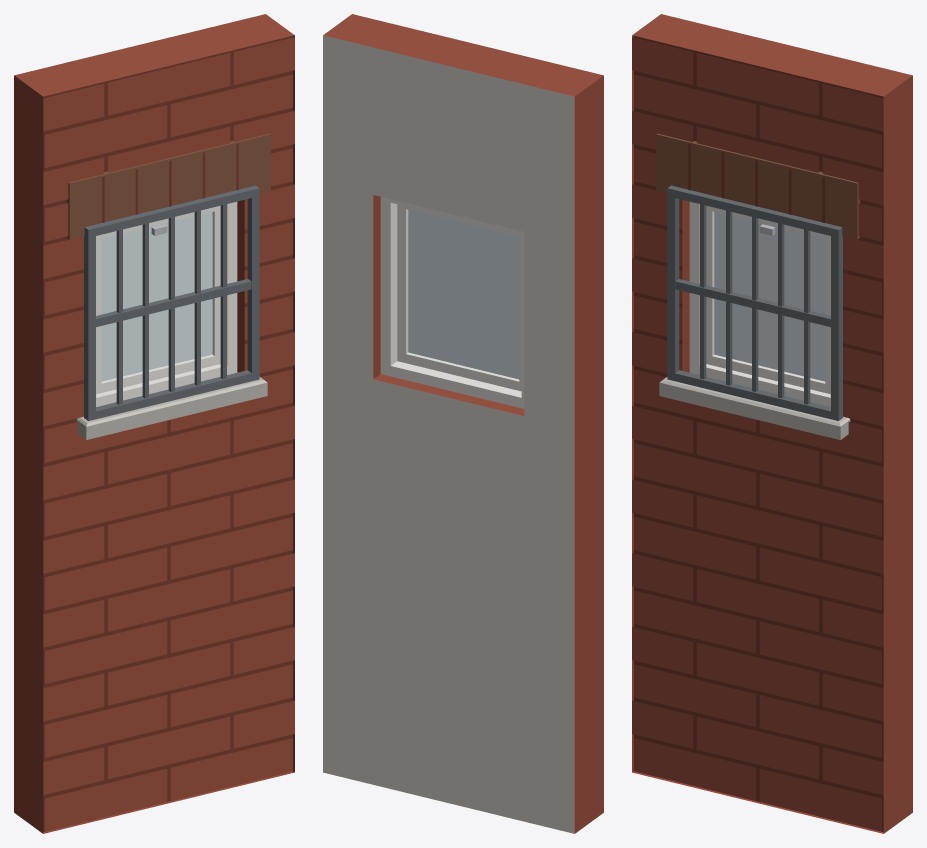
File: SC_Bld_Villa_Wall_Brick_Window_Small_1m.gltf
3 renders of one model, left to right at view 1: azimuth 30°, elevation 25°; view 2: azimuth 150°, elevation 25°; view 3: azimuth 330°, elevation 25°, orthographic.
Parts seen in each view (by area): view 1: SC_Bld_Villa_Wall_Brick_Window_Small_1m; view 2: SC_Bld_Villa_Wall_Brick_Window_Small_1m; view 3: SC_Bld_Villa_Wall_Brick_Window_Small_1m.
Part boxes in pixels (x1,y1,x2,y2): SC_Bld_Villa_Wall_Brick_Window_Small_1m: (14, 14, 294, 833); SC_Bld_Villa_Wall_Brick_Window_Small_1m: (323, 14, 603, 833); SC_Bld_Villa_Wall_Brick_Window_Small_1m: (632, 14, 912, 833).
Size of the model in its own units: 1 by 2.8 by 0.255.
1 material, 1 textured.
